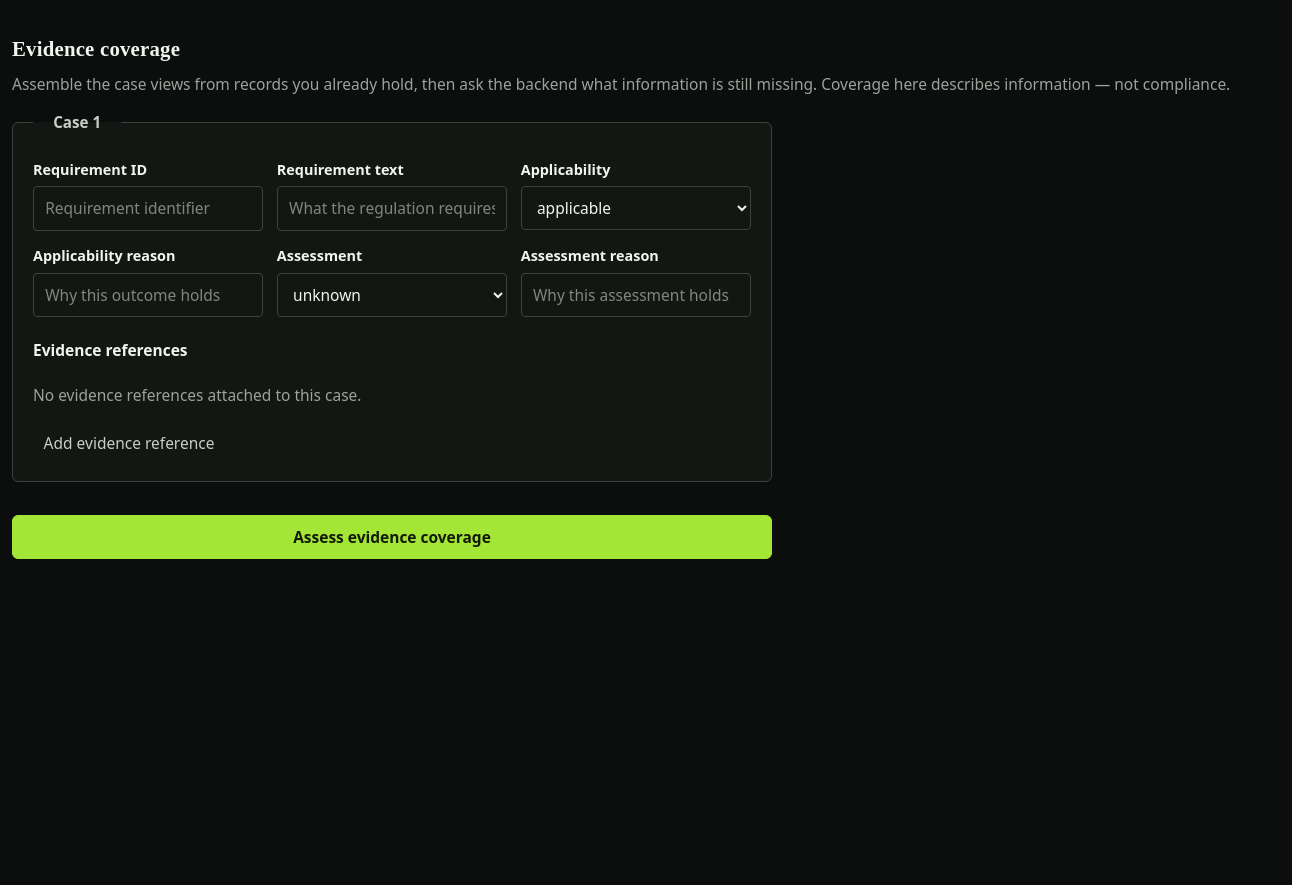
Scenario: GapsPage › presents each gap as information needed with a way to provide it
Type "req-1" into the field labelled "Requirement ID" at (148, 209), box [33,186,263,231]
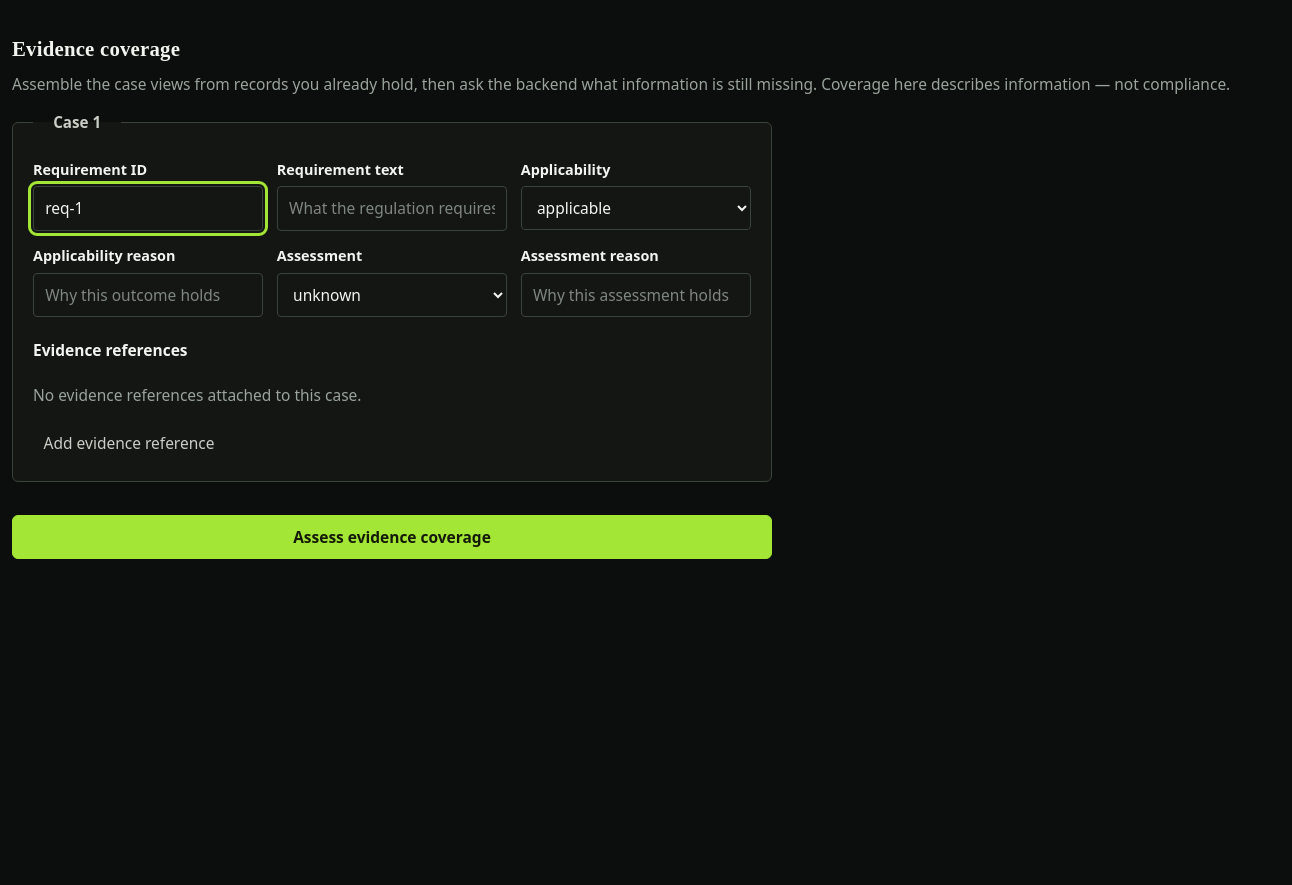
Type "File form X." into the field labelled "Requirement text" at (392, 209), box [277,186,507,231]
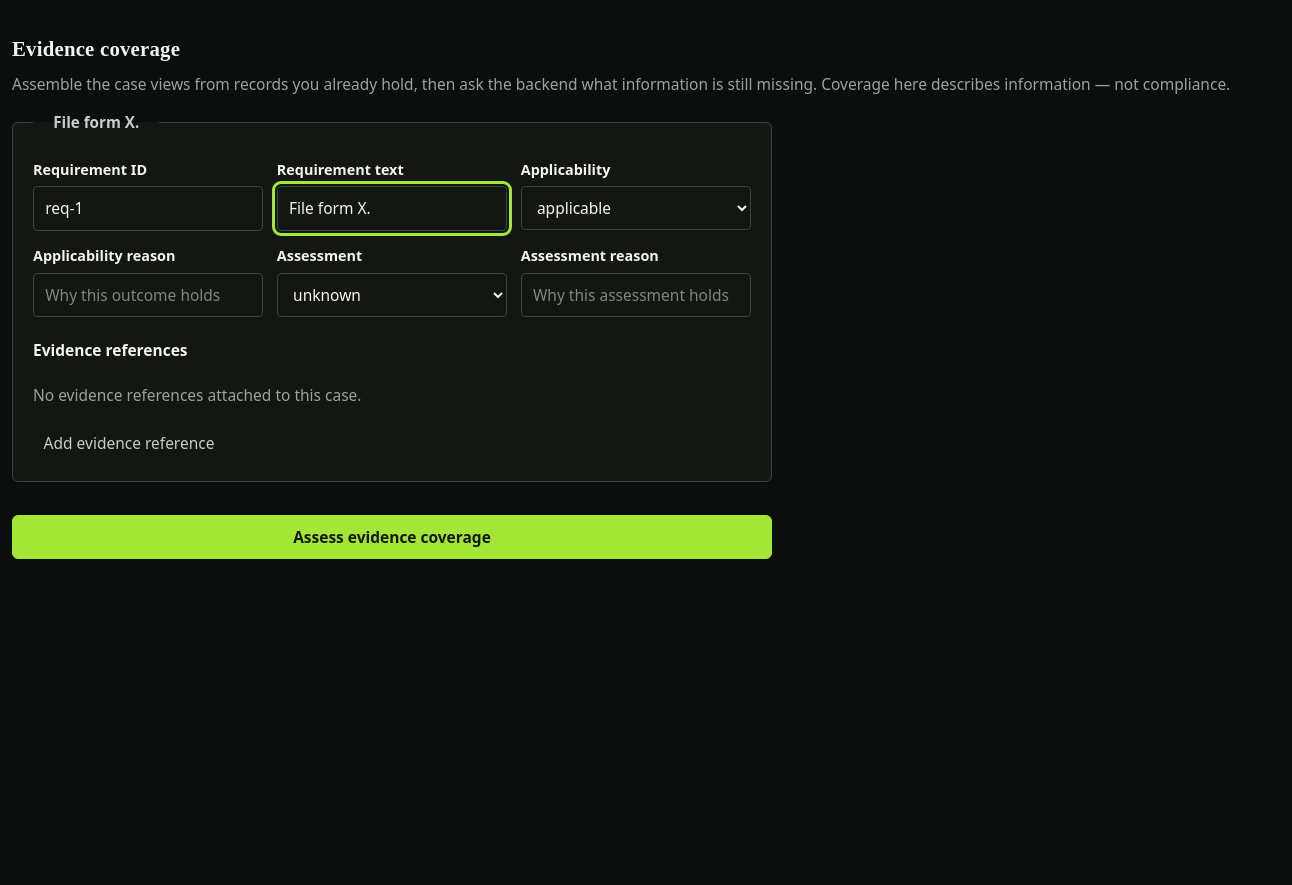
Click the button "Assess evidence coverage" at (392, 537), box [12,515,772,559]
(page scrolled)
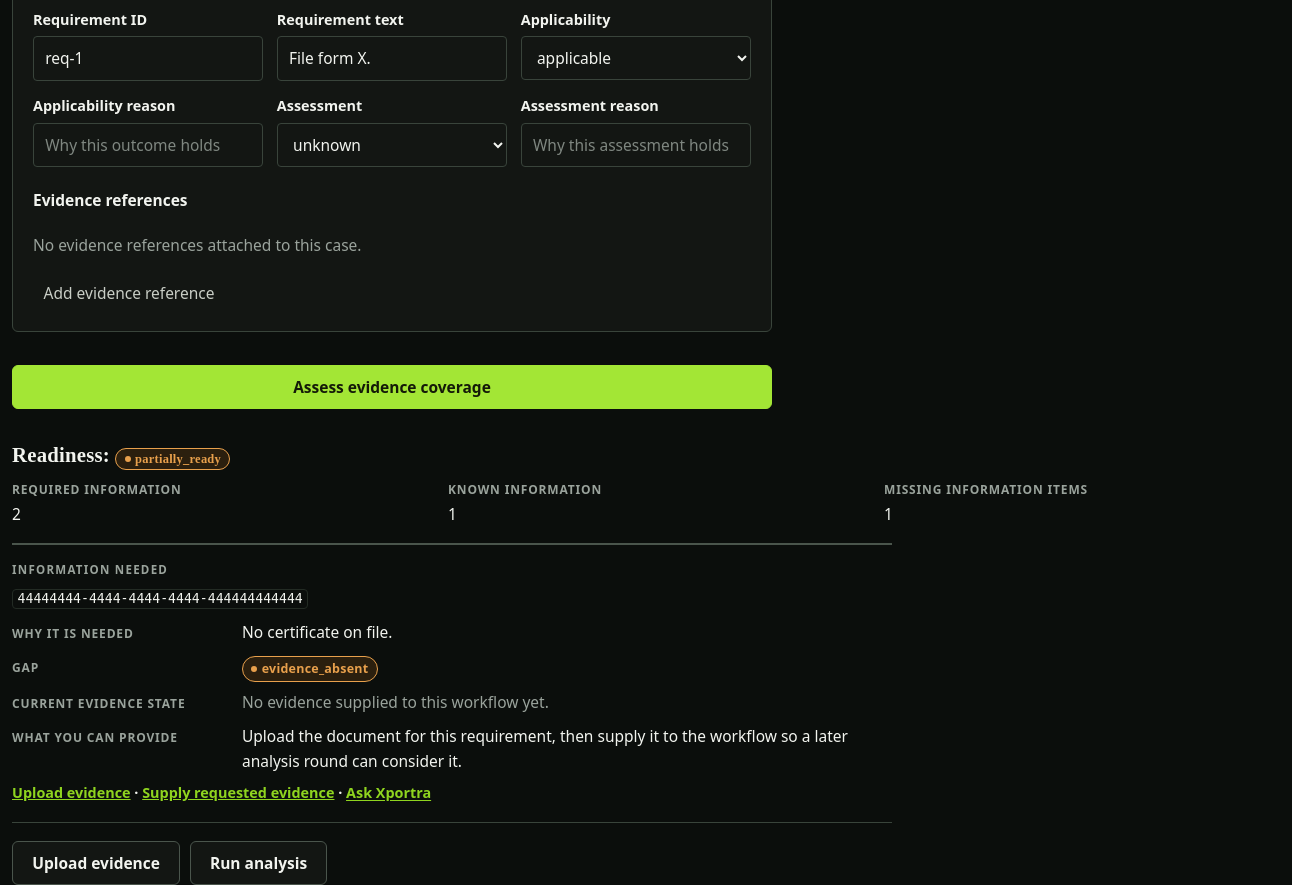
Now the text "Information needed" is shown, box [12,562,168,577]
Now the text "Why it is needed" is shown, box [12,625,134,642]
Now the text "What you can provide" is shown, box [12,729,178,746]
